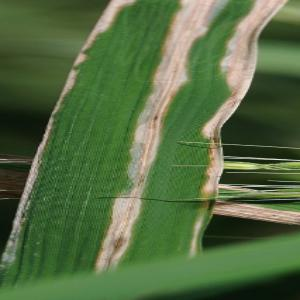Hawar Daun: (145, 39, 191, 119), (217, 22, 262, 88), (158, 1, 216, 50), (93, 1, 129, 34)
